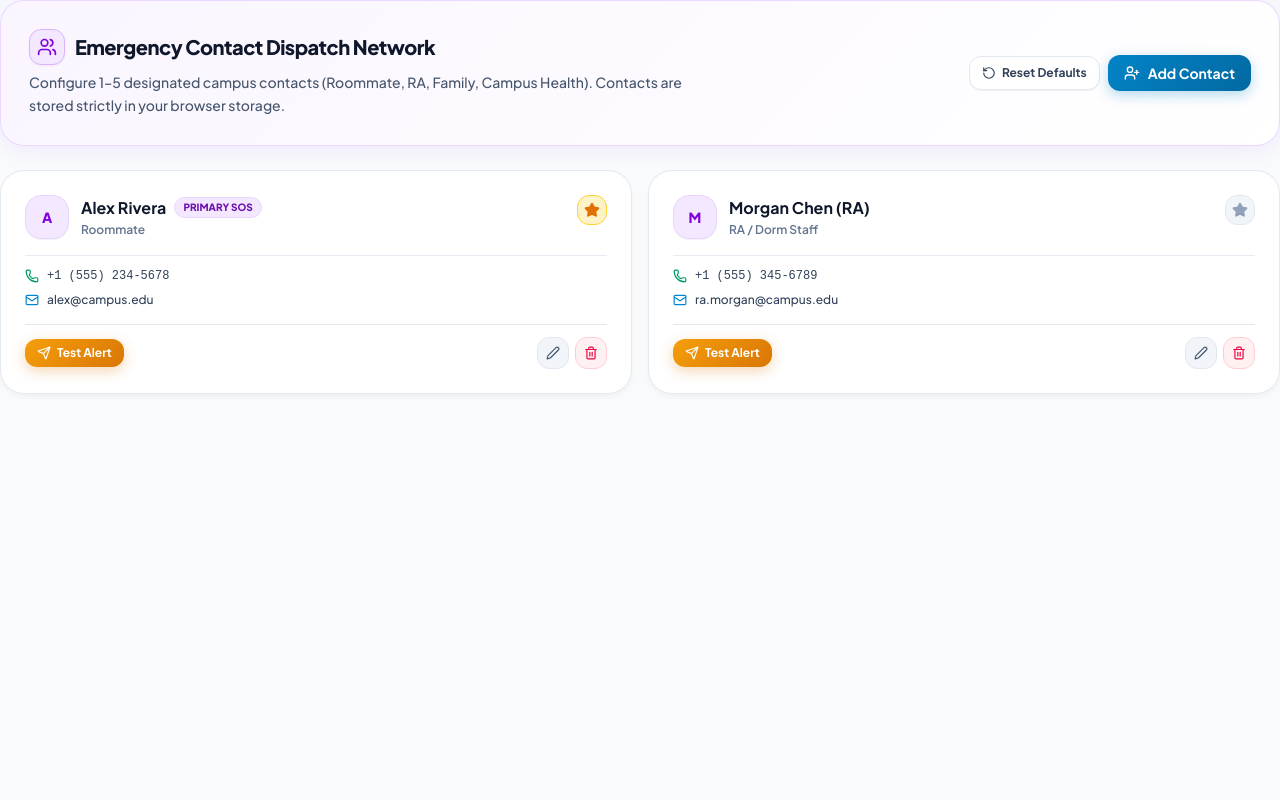
Scenario: EmergencyContactsView Component › opens add contact drawer when clicking Add Contact button
Step 1. Click the button "Add Contact" → (1179, 73), box 1108,55 -> 1251,91
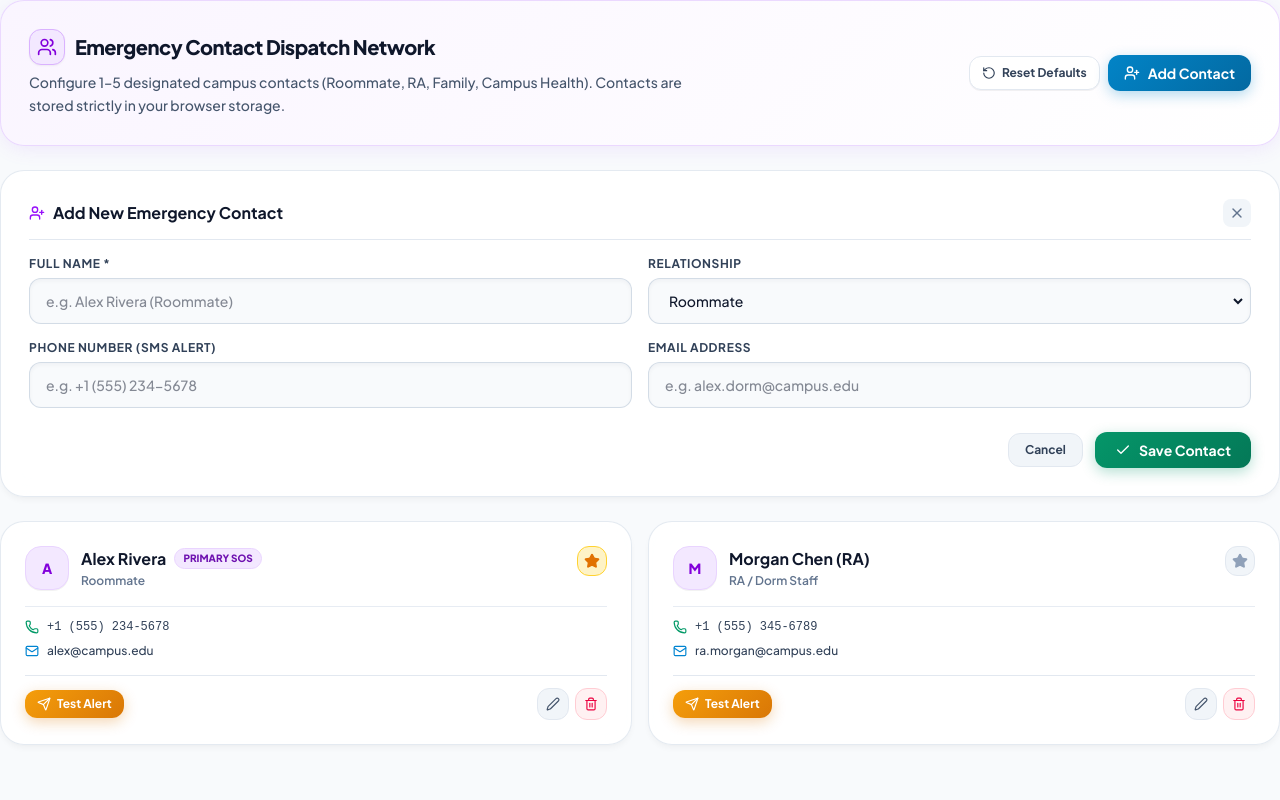
Now the text "Add New Emergency Contact" is shown, box 53,200 -> 283,224
Now the field with placeholder "e.g. Alex Rivera (Roommate)" is shown, box 34,282 -> 627,318
